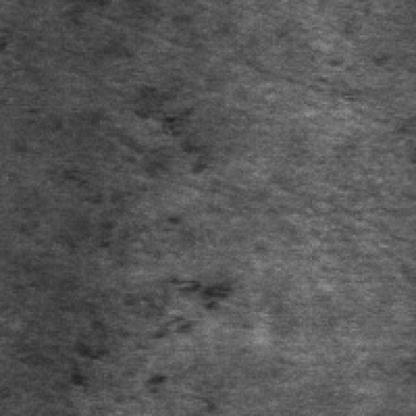rolled-in_scale: (27, 88, 210, 246), (45, 281, 229, 393)
